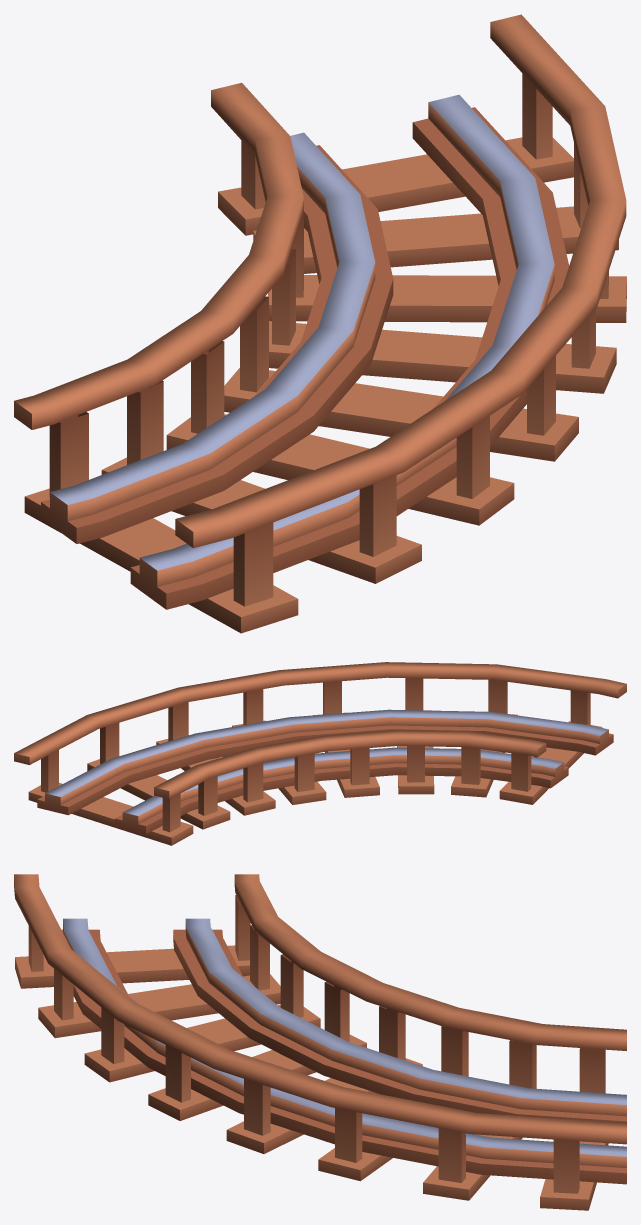
The model's file is coaster-wood-corner-small.glb.
3 renders of one model, top to bottom at view 1: azimuth 30°, elevation 25°; view 2: azimuth 150°, elevation 25°; view 3: azimuth 270°, elevation 25°, orthographic. The views are drawn at different scales.
Visible parts, largest first — view 1: coaster-wood-corner-small; view 2: coaster-wood-corner-small; view 3: coaster-wood-corner-small.
Part boxes in pixels (<box>): coaster-wood-corner-small: <box>14,14,626,633</box>; coaster-wood-corner-small: <box>14,662,626,845</box>; coaster-wood-corner-small: <box>14,874,626,1210</box>.
Bounding box in the file's own units: 2.5 × 0.35 × 2.5.
